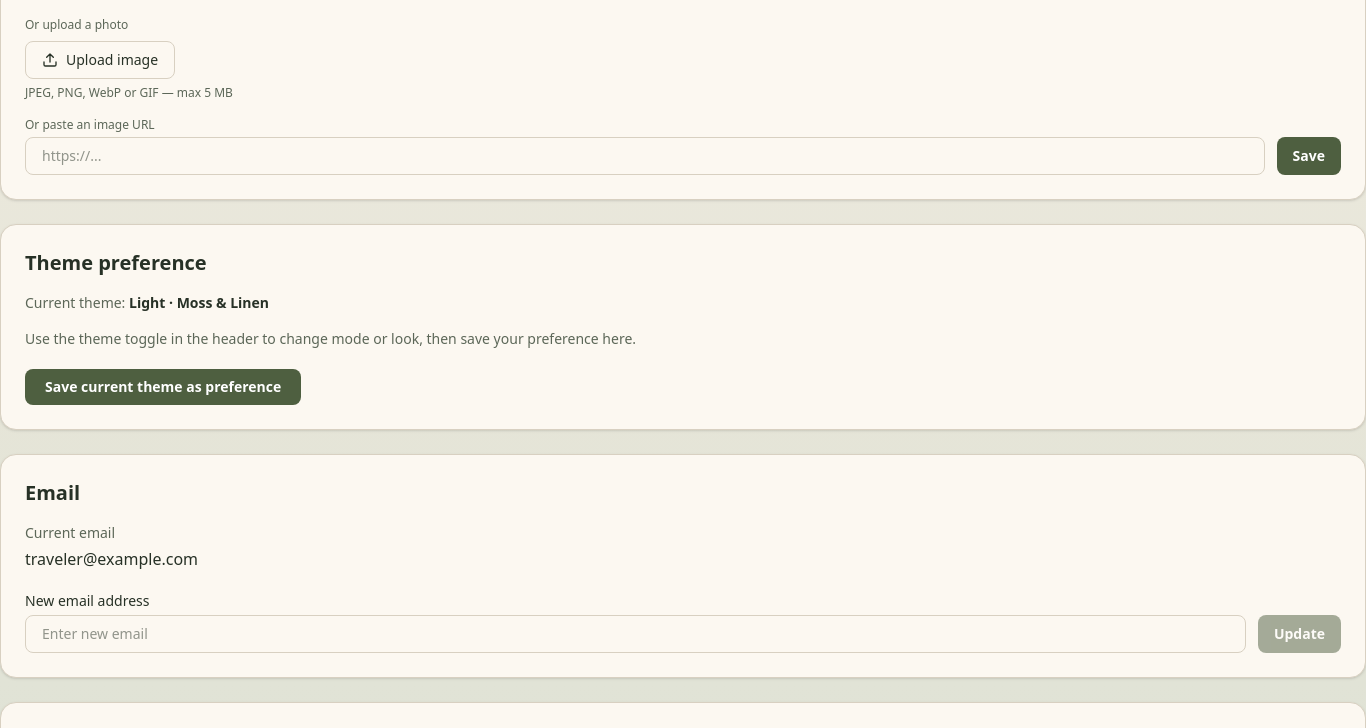
Test: AccountSettings › saves the current theme preference through the profile PATCH boundary
(page scrolled)
Click the button "Save current theme as preference": (163, 387) [25, 369, 301, 405]
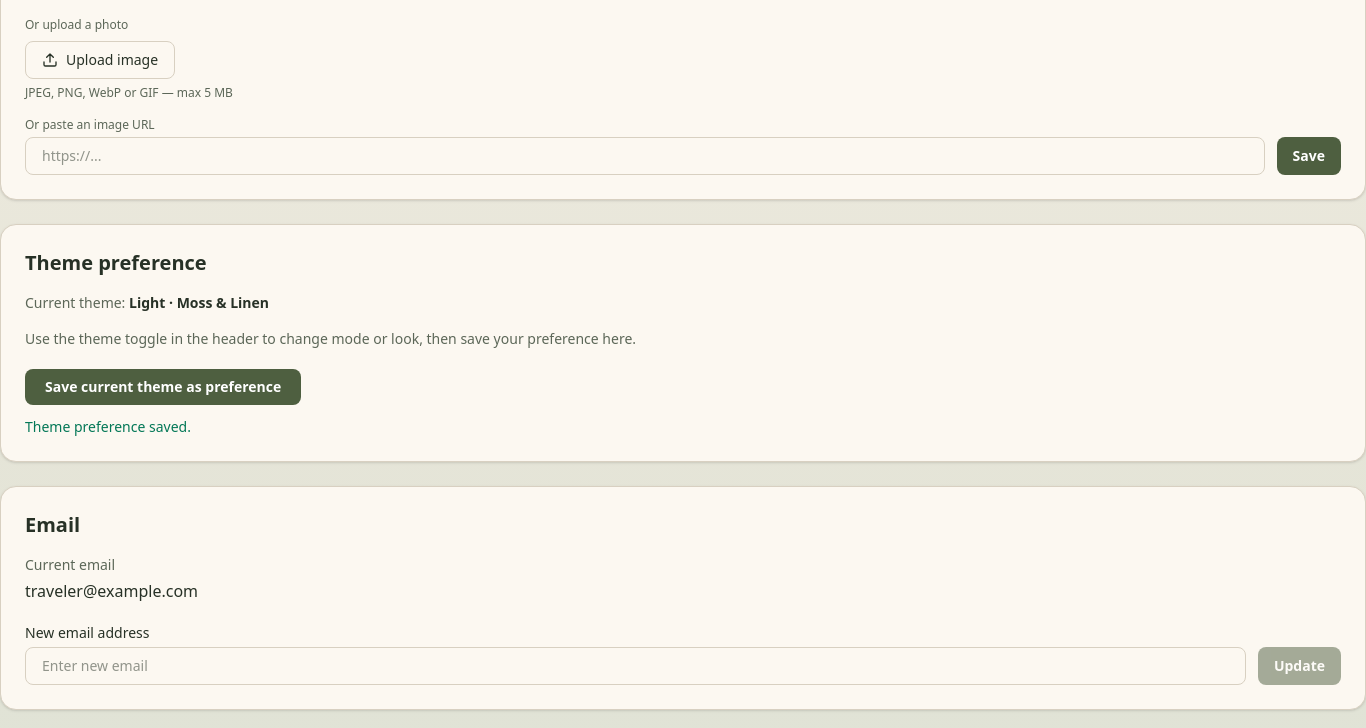
Check: the text "Theme preference saved." is shown, box [25, 417, 191, 436]
